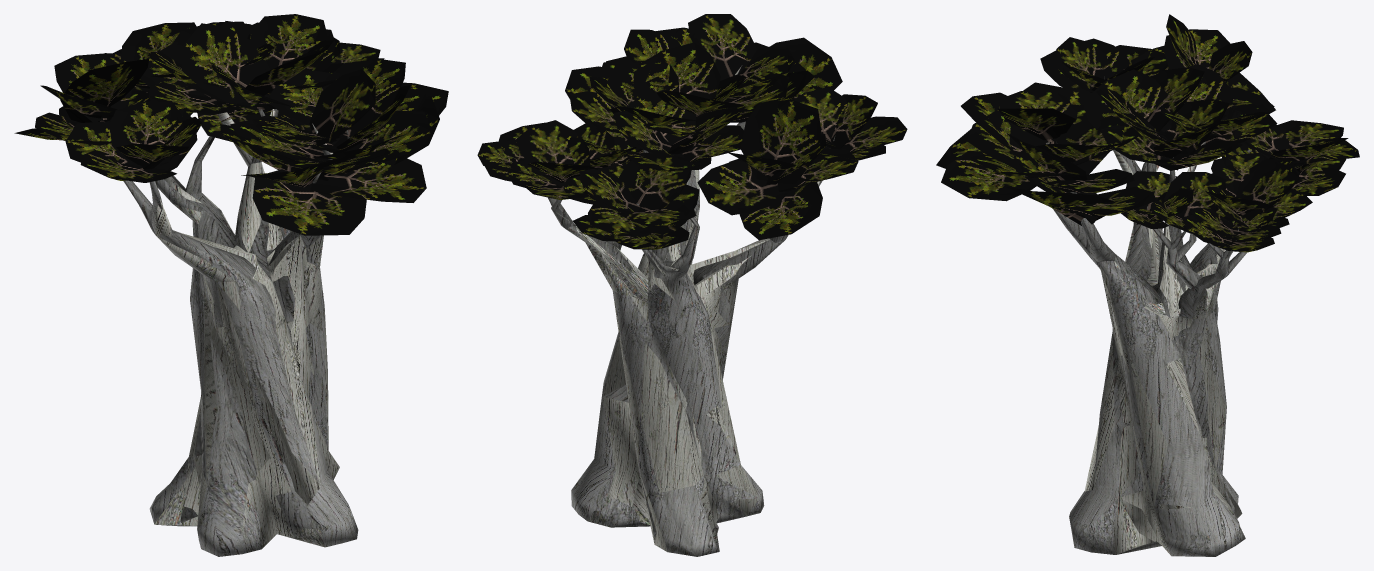
File: AfricanBoabab_01.DAE
3 views of the same model, side by side, from view 1: azimuth 30°, elevation 25°; view 2: azimuth 150°, elevation 25°; view 3: azimuth 270°, elevation 25° (orthographic). The views are drawn at different scales.
Parts seen in each view (by area): view 1: boabab100, boabab300, boabab200; view 2: boabab100, boabab300, boabab200; view 3: boabab300, boabab100, boabab200.
Part boxes in pixels (x1=…): boabab100: x1=15, y1=16, x2=448, y2=525; boabab300: x1=35, y1=14, x2=448, y2=556; boabab200: x1=16, y1=20, x2=445, y2=548; boabab100: x1=482, y1=14, x2=907, y2=550; boabab300: x1=478, y1=14, x2=906, y2=556; boabab200: x1=477, y1=30, x2=877, y2=551; boabab300: x1=936, y1=15, x2=1359, y2=556; boabab100: x1=941, y1=14, x2=1359, y2=545; boabab200: x1=947, y1=24, x2=1347, y2=555.
Size of what is drawn, in the model's own units: 16.79 by 17.81 by 20.76.
